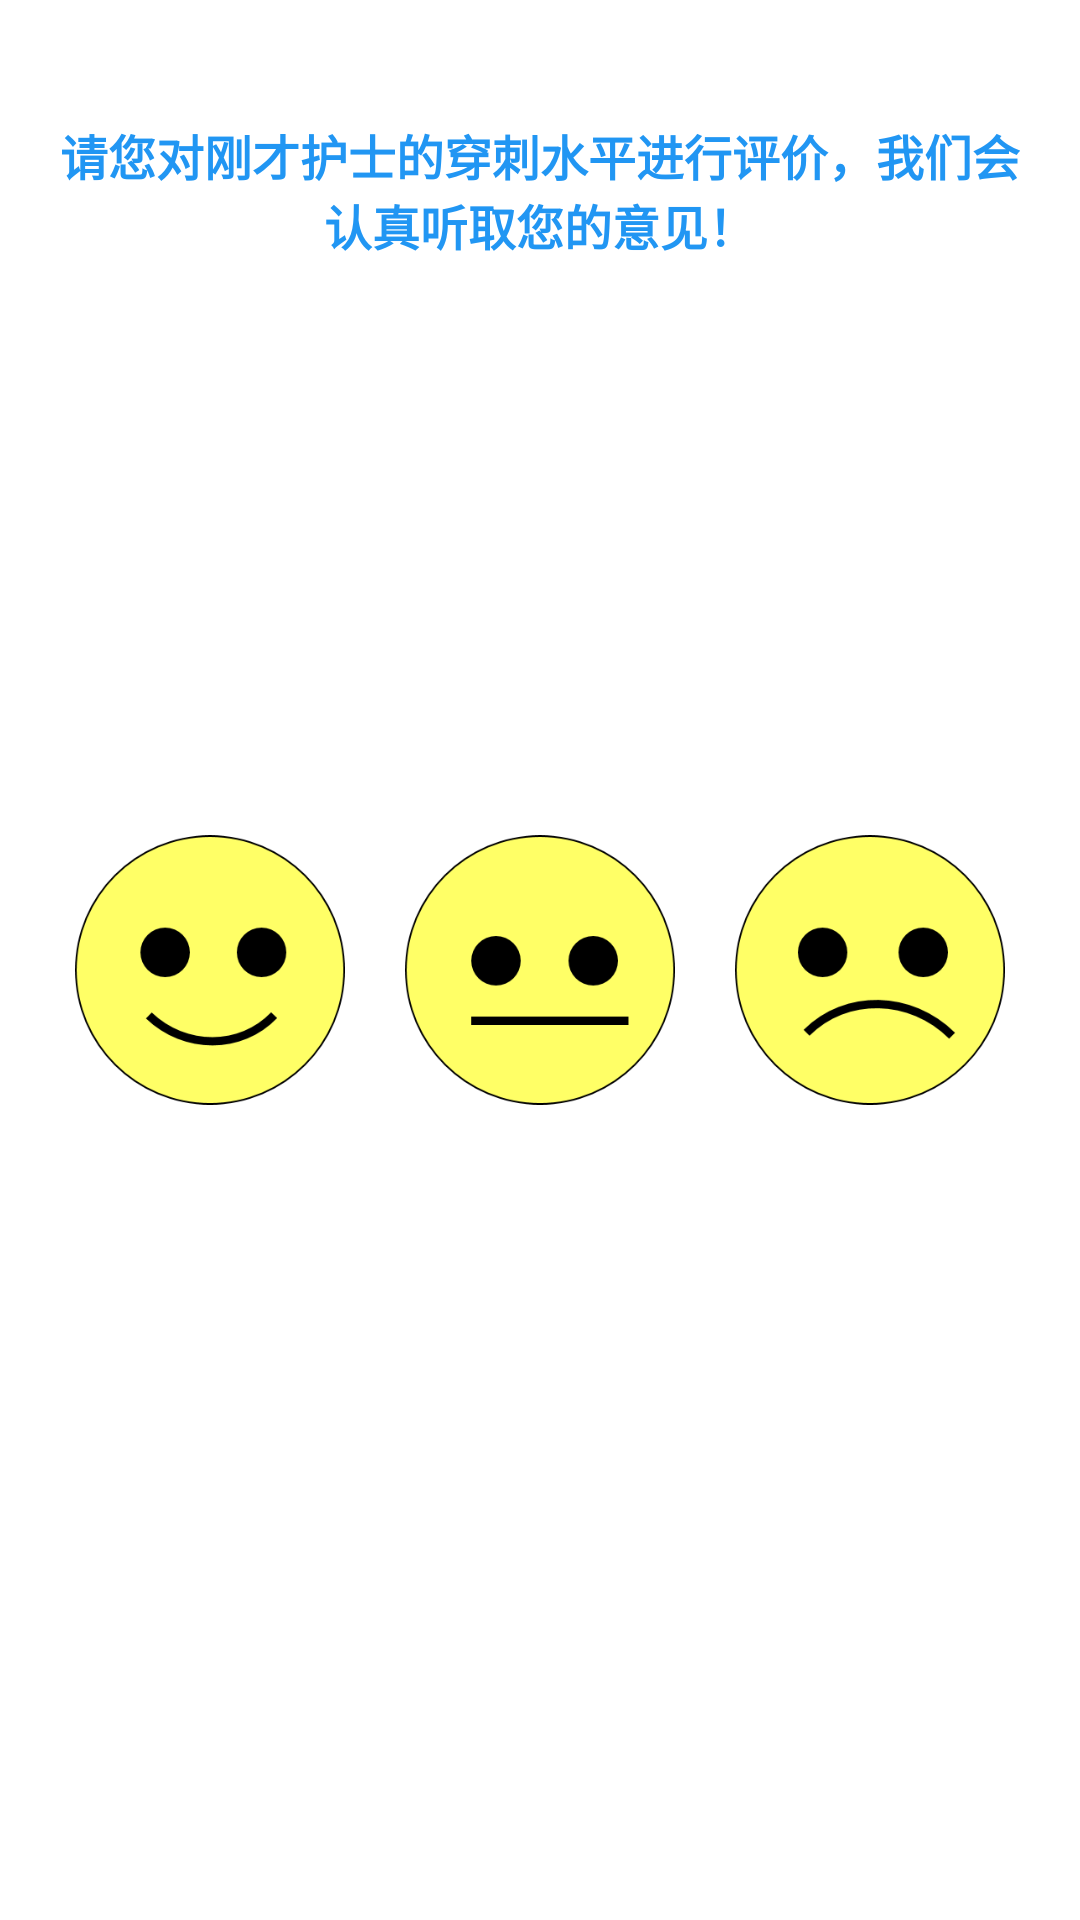

Icon bounding boxes for this 1080*1920 phone screenshot, format (x1, y1, x2, y2):
good: (75, 835, 345, 1105)
soso: (405, 835, 675, 1105)
terrible: (735, 835, 1005, 1105)
